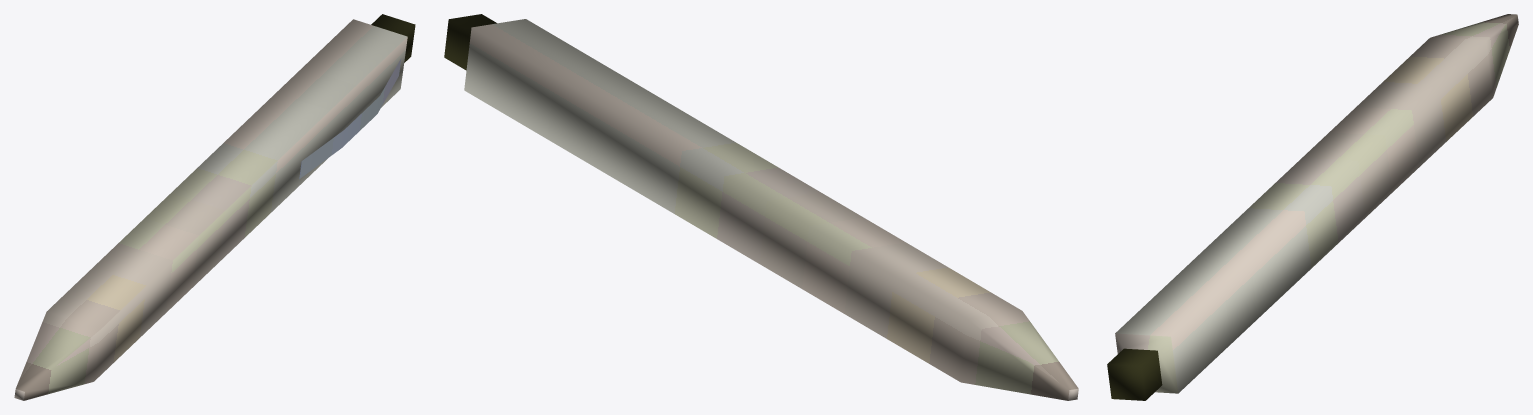
The model's file is pen2.fbx.
3 renders of one model, left to right at view 1: azimuth 90°, elevation 25°; view 2: azimuth 150°, elevation 25°; view 3: azimuth 270°, elevation 25°, orthographic. The views are drawn at different scales.
Parts seen in each view (by area): view 1: pen2; view 2: pen2; view 3: pen2.
Part boxes in pixels (x1,y1,x2,y2): pen2: (14, 14, 415, 400); pen2: (444, 14, 1078, 400); pen2: (1107, 14, 1518, 400).
Size of the model in its own units: 22.13 by 1.81 by 10.38.
Materials: 1 (1 with a texture image).
